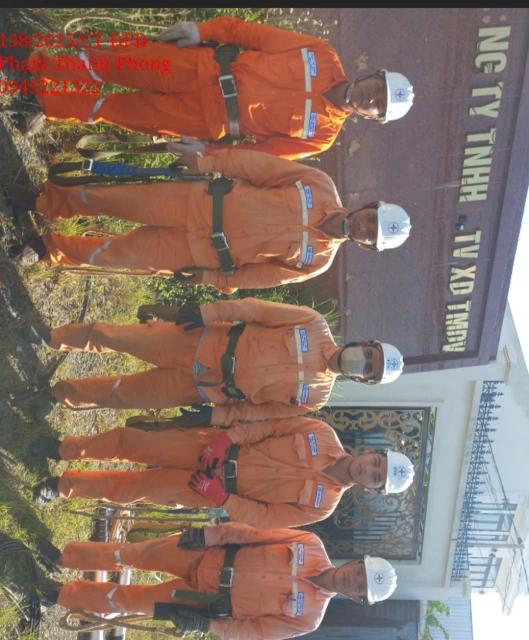gloves: (158, 8, 204, 57), (180, 473, 232, 514), (165, 133, 211, 174), (158, 268, 220, 297), (160, 307, 218, 335), (188, 433, 228, 471), (167, 607, 217, 636), (173, 398, 219, 427), (168, 526, 209, 553)
harness: (202, 174, 246, 273), (214, 44, 253, 143), (227, 322, 254, 407), (217, 543, 236, 621), (228, 442, 252, 493)
helmet: (373, 189, 422, 262), (378, 57, 420, 136), (360, 551, 402, 611), (382, 448, 416, 502), (374, 338, 404, 393)
shoes: (12, 577, 73, 620), (0, 170, 53, 218), (19, 471, 77, 514), (8, 426, 71, 459), (27, 377, 73, 421), (29, 535, 81, 572), (9, 234, 68, 266), (17, 320, 73, 350), (11, 102, 57, 135), (0, 37, 29, 76)
